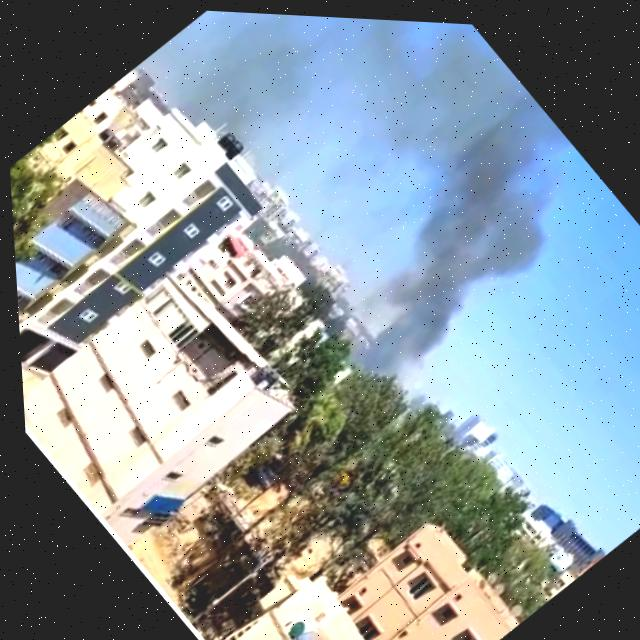Smoke: (115, 5, 635, 407)
